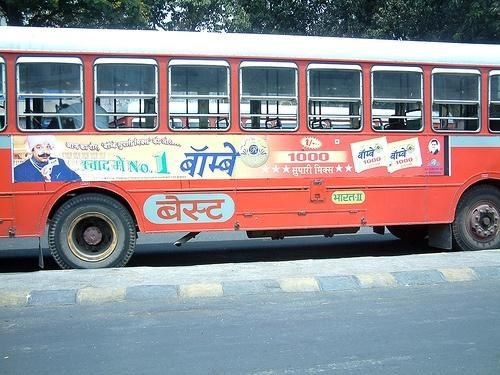bus: (3, 25, 500, 270)
